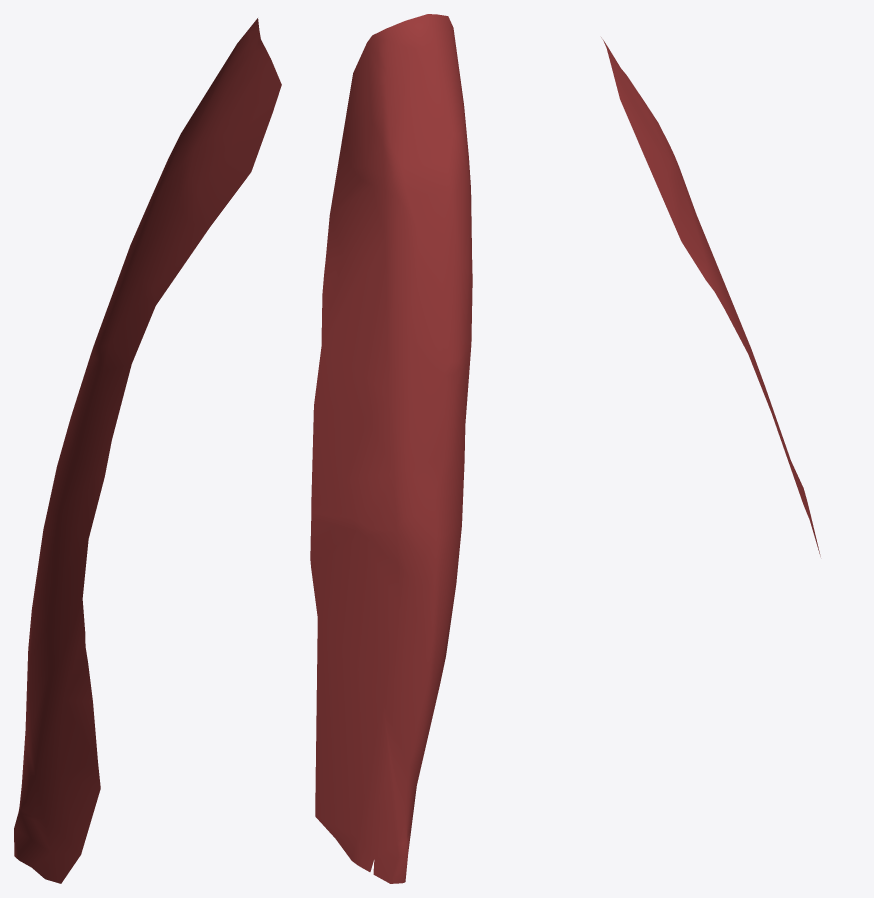
Rendered from rhomboid-minor-muscle-el.glb.
3 views of the same model, side by side, from view 1: azimuth 30°, elevation 25°; view 2: azimuth 150°, elevation 25°; view 3: azimuth 270°, elevation 25° (orthographic). The views are drawn at different scales.
Parts seen in each view (by area): view 1: Rhomboid minor muscle.el; view 2: Rhomboid minor muscle.el; view 3: Rhomboid minor muscle.el.
Boxes of the visible parts, x1=… form: Rhomboid minor muscle.el: x1=14, y1=18, x2=281, y2=883; Rhomboid minor muscle.el: x1=310, y1=14, x2=472, y2=883; Rhomboid minor muscle.el: x1=601, y1=37, x2=820, y2=556.
Bounding box in the file's own units: 0.00543 × 0.0274 × 0.00979.
